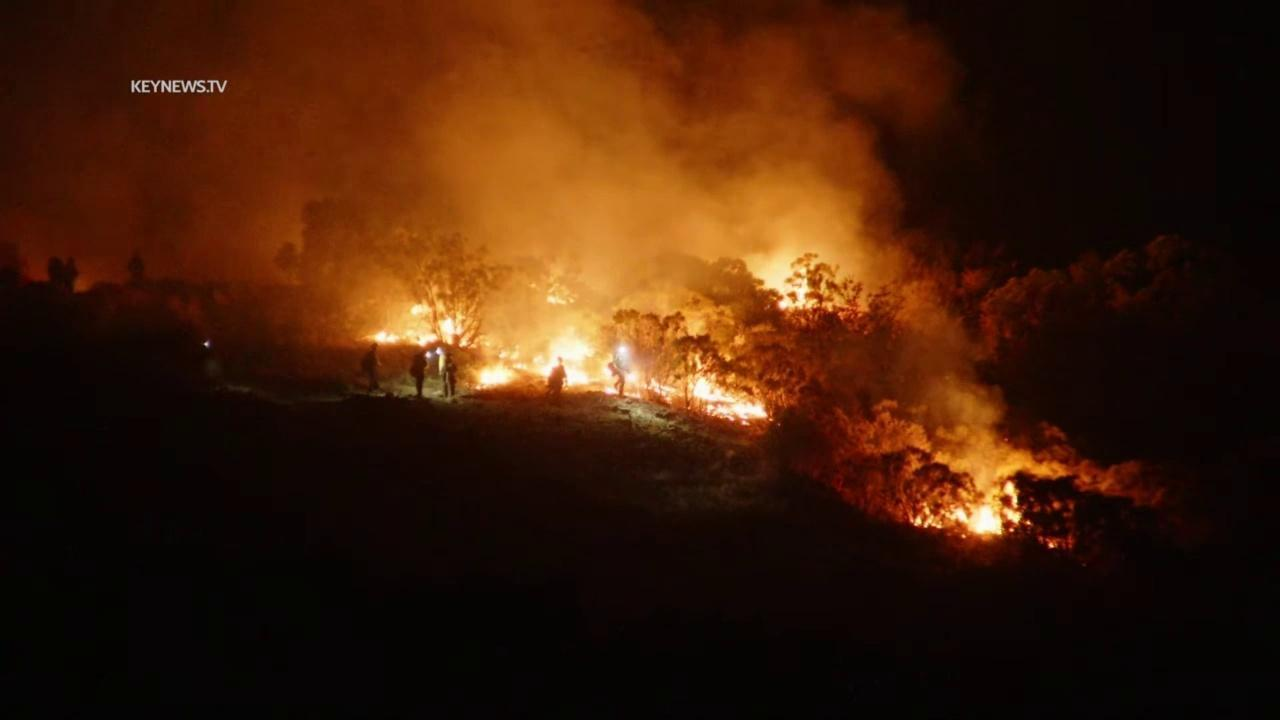fire: (604, 354, 774, 422), (474, 326, 599, 392), (909, 479, 1025, 540), (355, 302, 479, 350), (750, 265, 819, 311), (542, 279, 579, 305)
smoke: (0, 0, 1011, 501)
